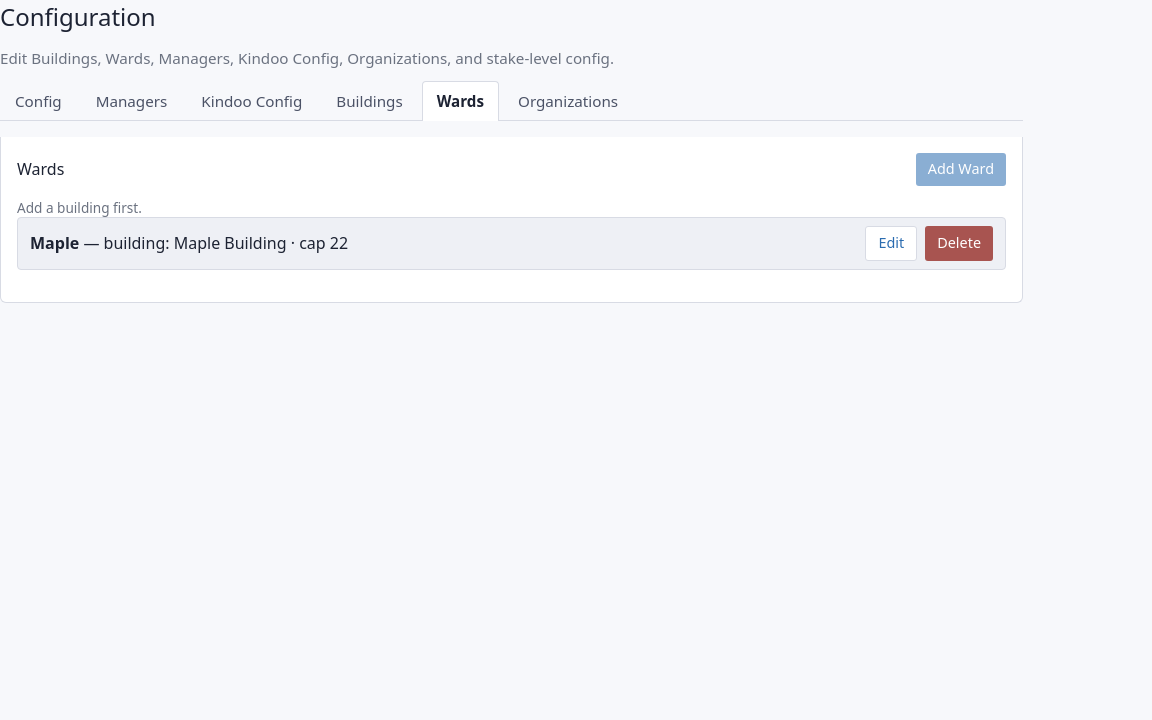
<ConfigurationPage /> › opens the Edit Ward modal pre-populated; no ward code field is shown
Click the button with test id "config-ward-edit-CO" at (891, 244), box x1=866 y1=226 x2=917 y2=261
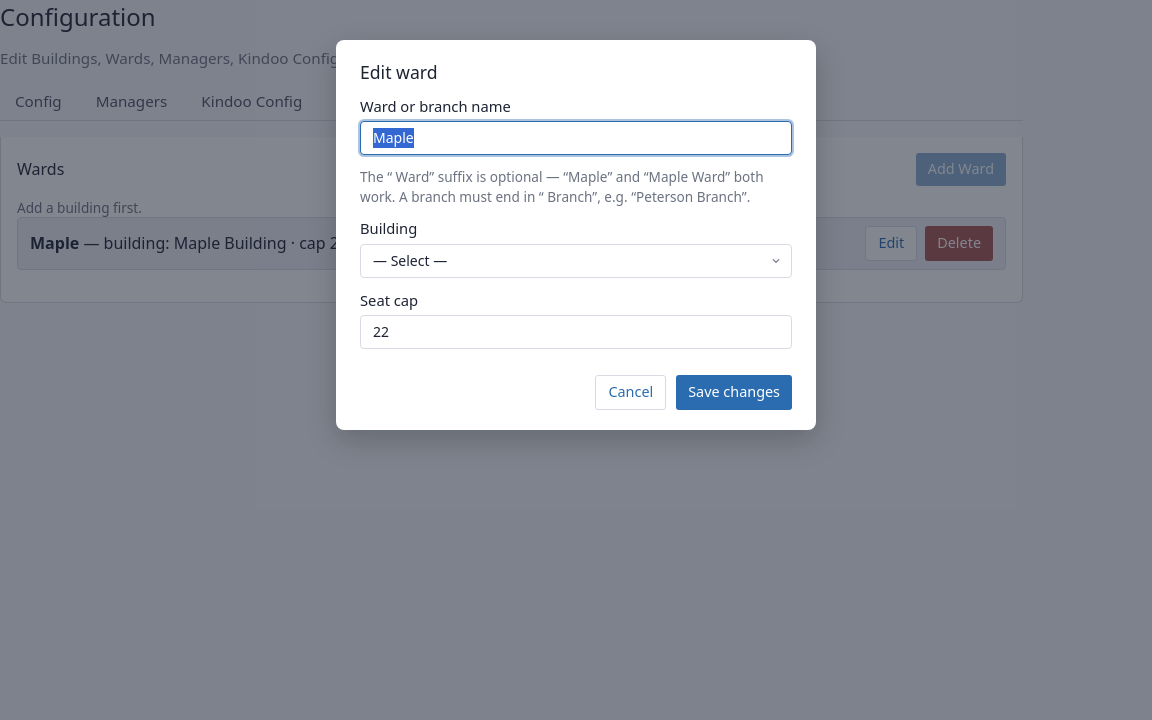
Result: the field labelled "Ward or branch name" holds "Maple" at x1=360 y1=121 x2=792 y2=155
Result: the heading "Edit ward" is shown at x1=360 y1=60 x2=438 y2=84
